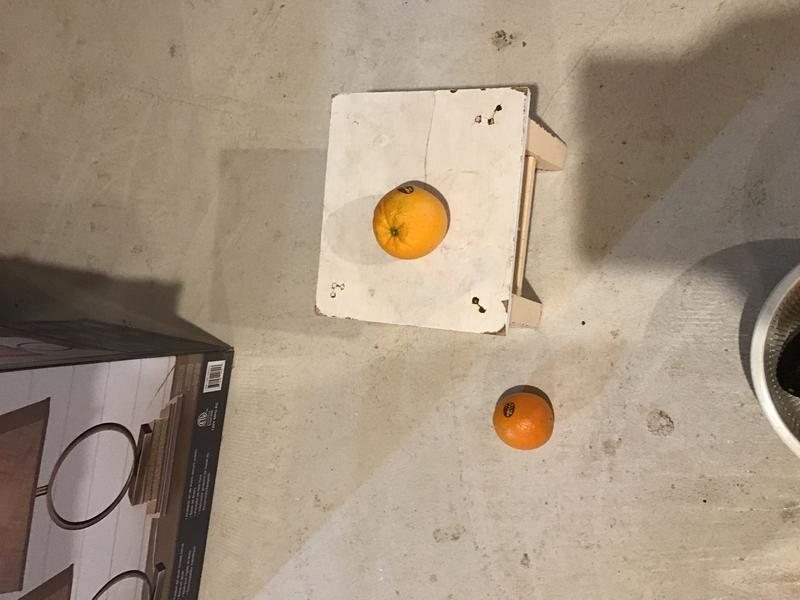orange: (371, 178, 453, 262), (492, 384, 558, 457)
